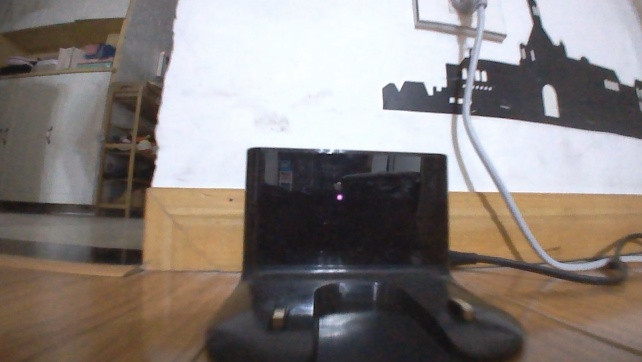charger: (201, 142, 526, 361)
wire: (447, 0, 641, 288)
